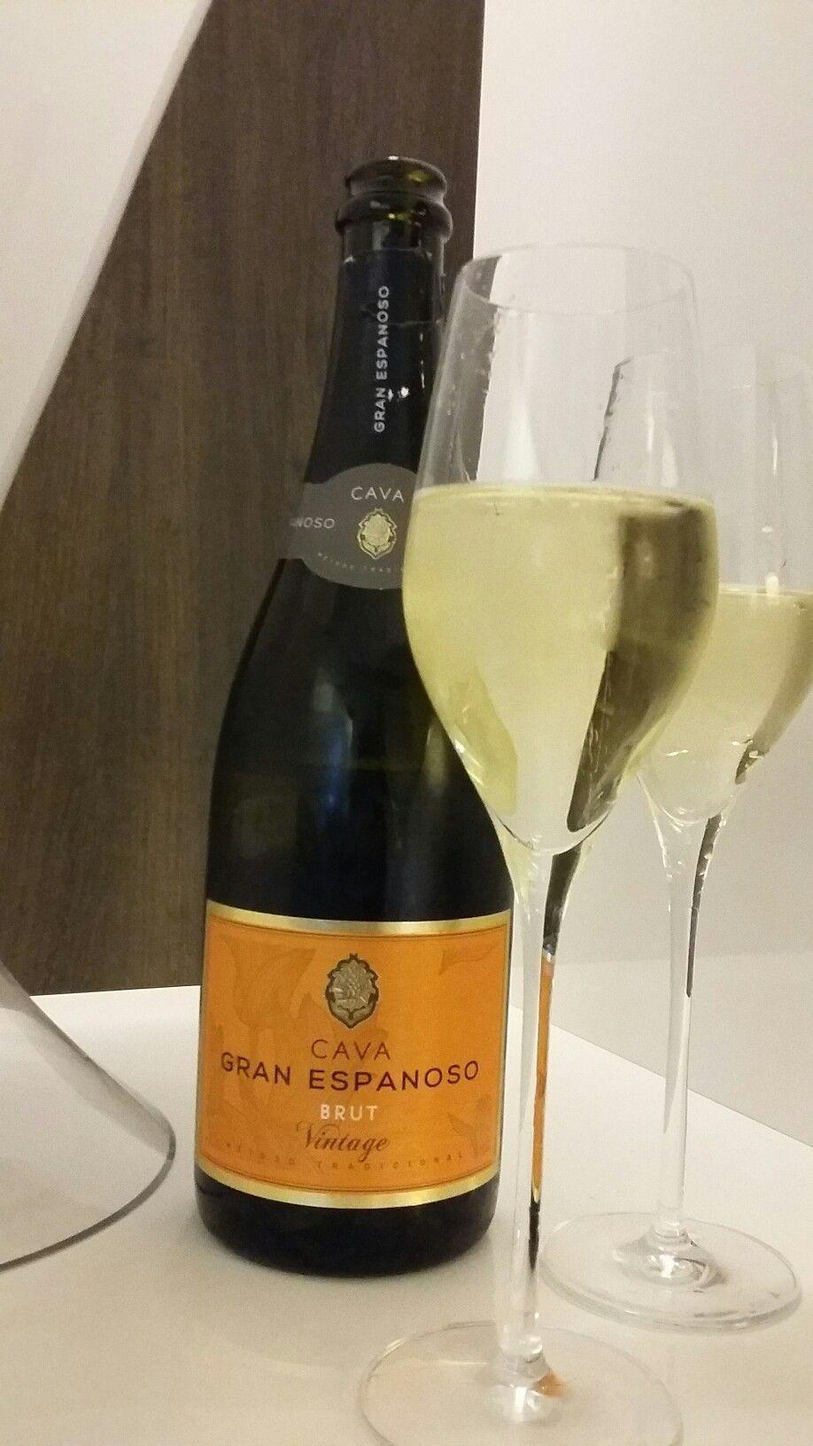bottle-glass: (178, 155, 527, 1298)
glass-wine: (384, 207, 732, 1318), (530, 352, 809, 1376)
